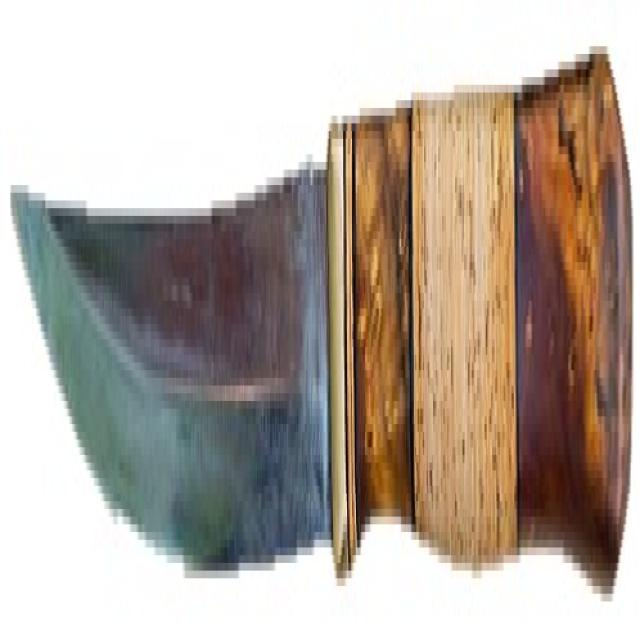knife: (10, 23, 640, 640)
